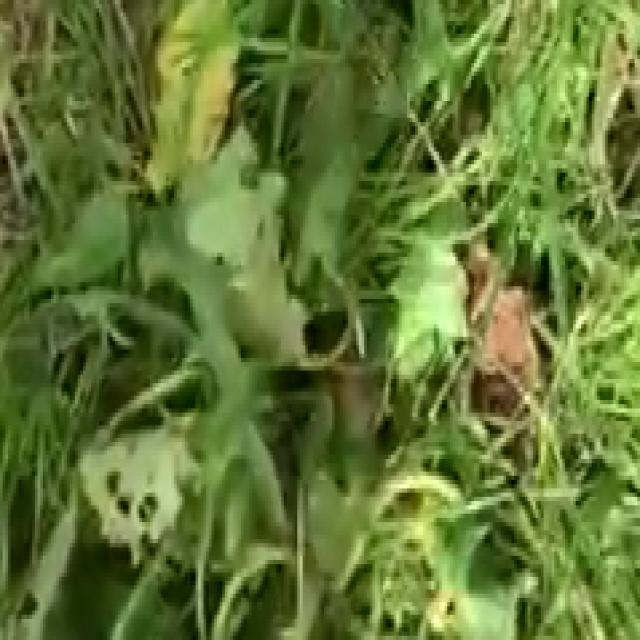organic waste: (152, 63, 496, 417)
